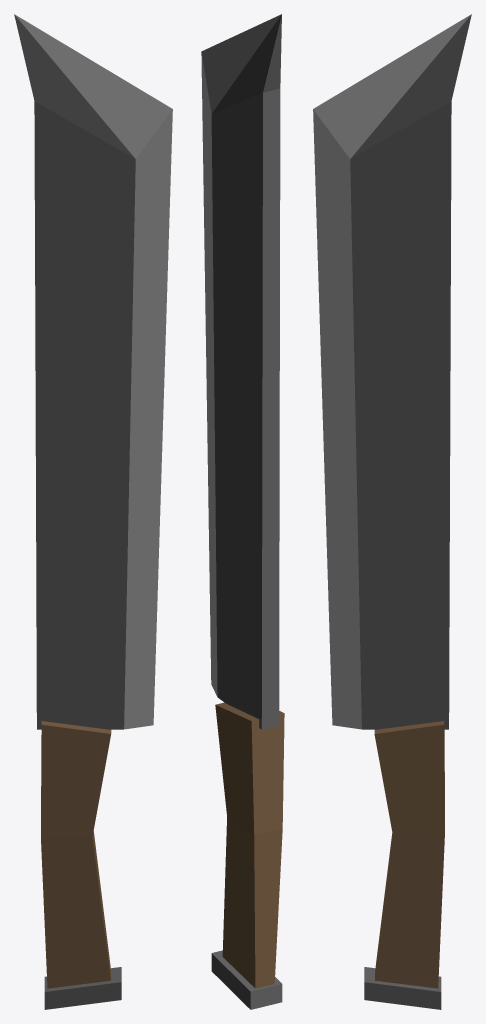
Rendered from Item_Machete00.FBX.
The picture shows the model from 3 angles, left to right: view 1: azimuth 90°, elevation 25°; view 2: azimuth 210°, elevation 25°; view 3: azimuth 270°, elevation 25°; orthographic projection.
Visible parts, largest first — view 1: Item_Machete00; view 2: Item_Machete00; view 3: Item_Machete00.
Part boxes in pixels (x1,y1,x2,y2): Item_Machete00: [14, 14, 172, 1009]; Item_Machete00: [201, 14, 284, 1009]; Item_Machete00: [313, 14, 471, 1009].
Size of the model in its own units: 3.01 by 83.71 by 12.19.
